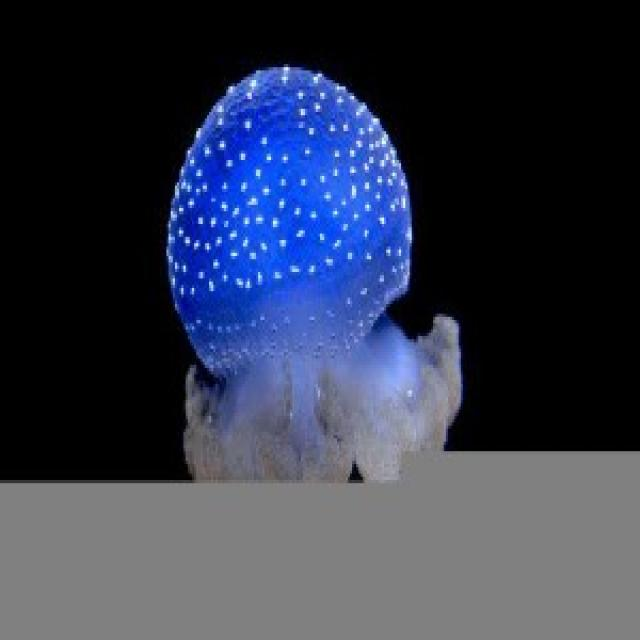Jellyfish: (165, 49, 466, 543)
